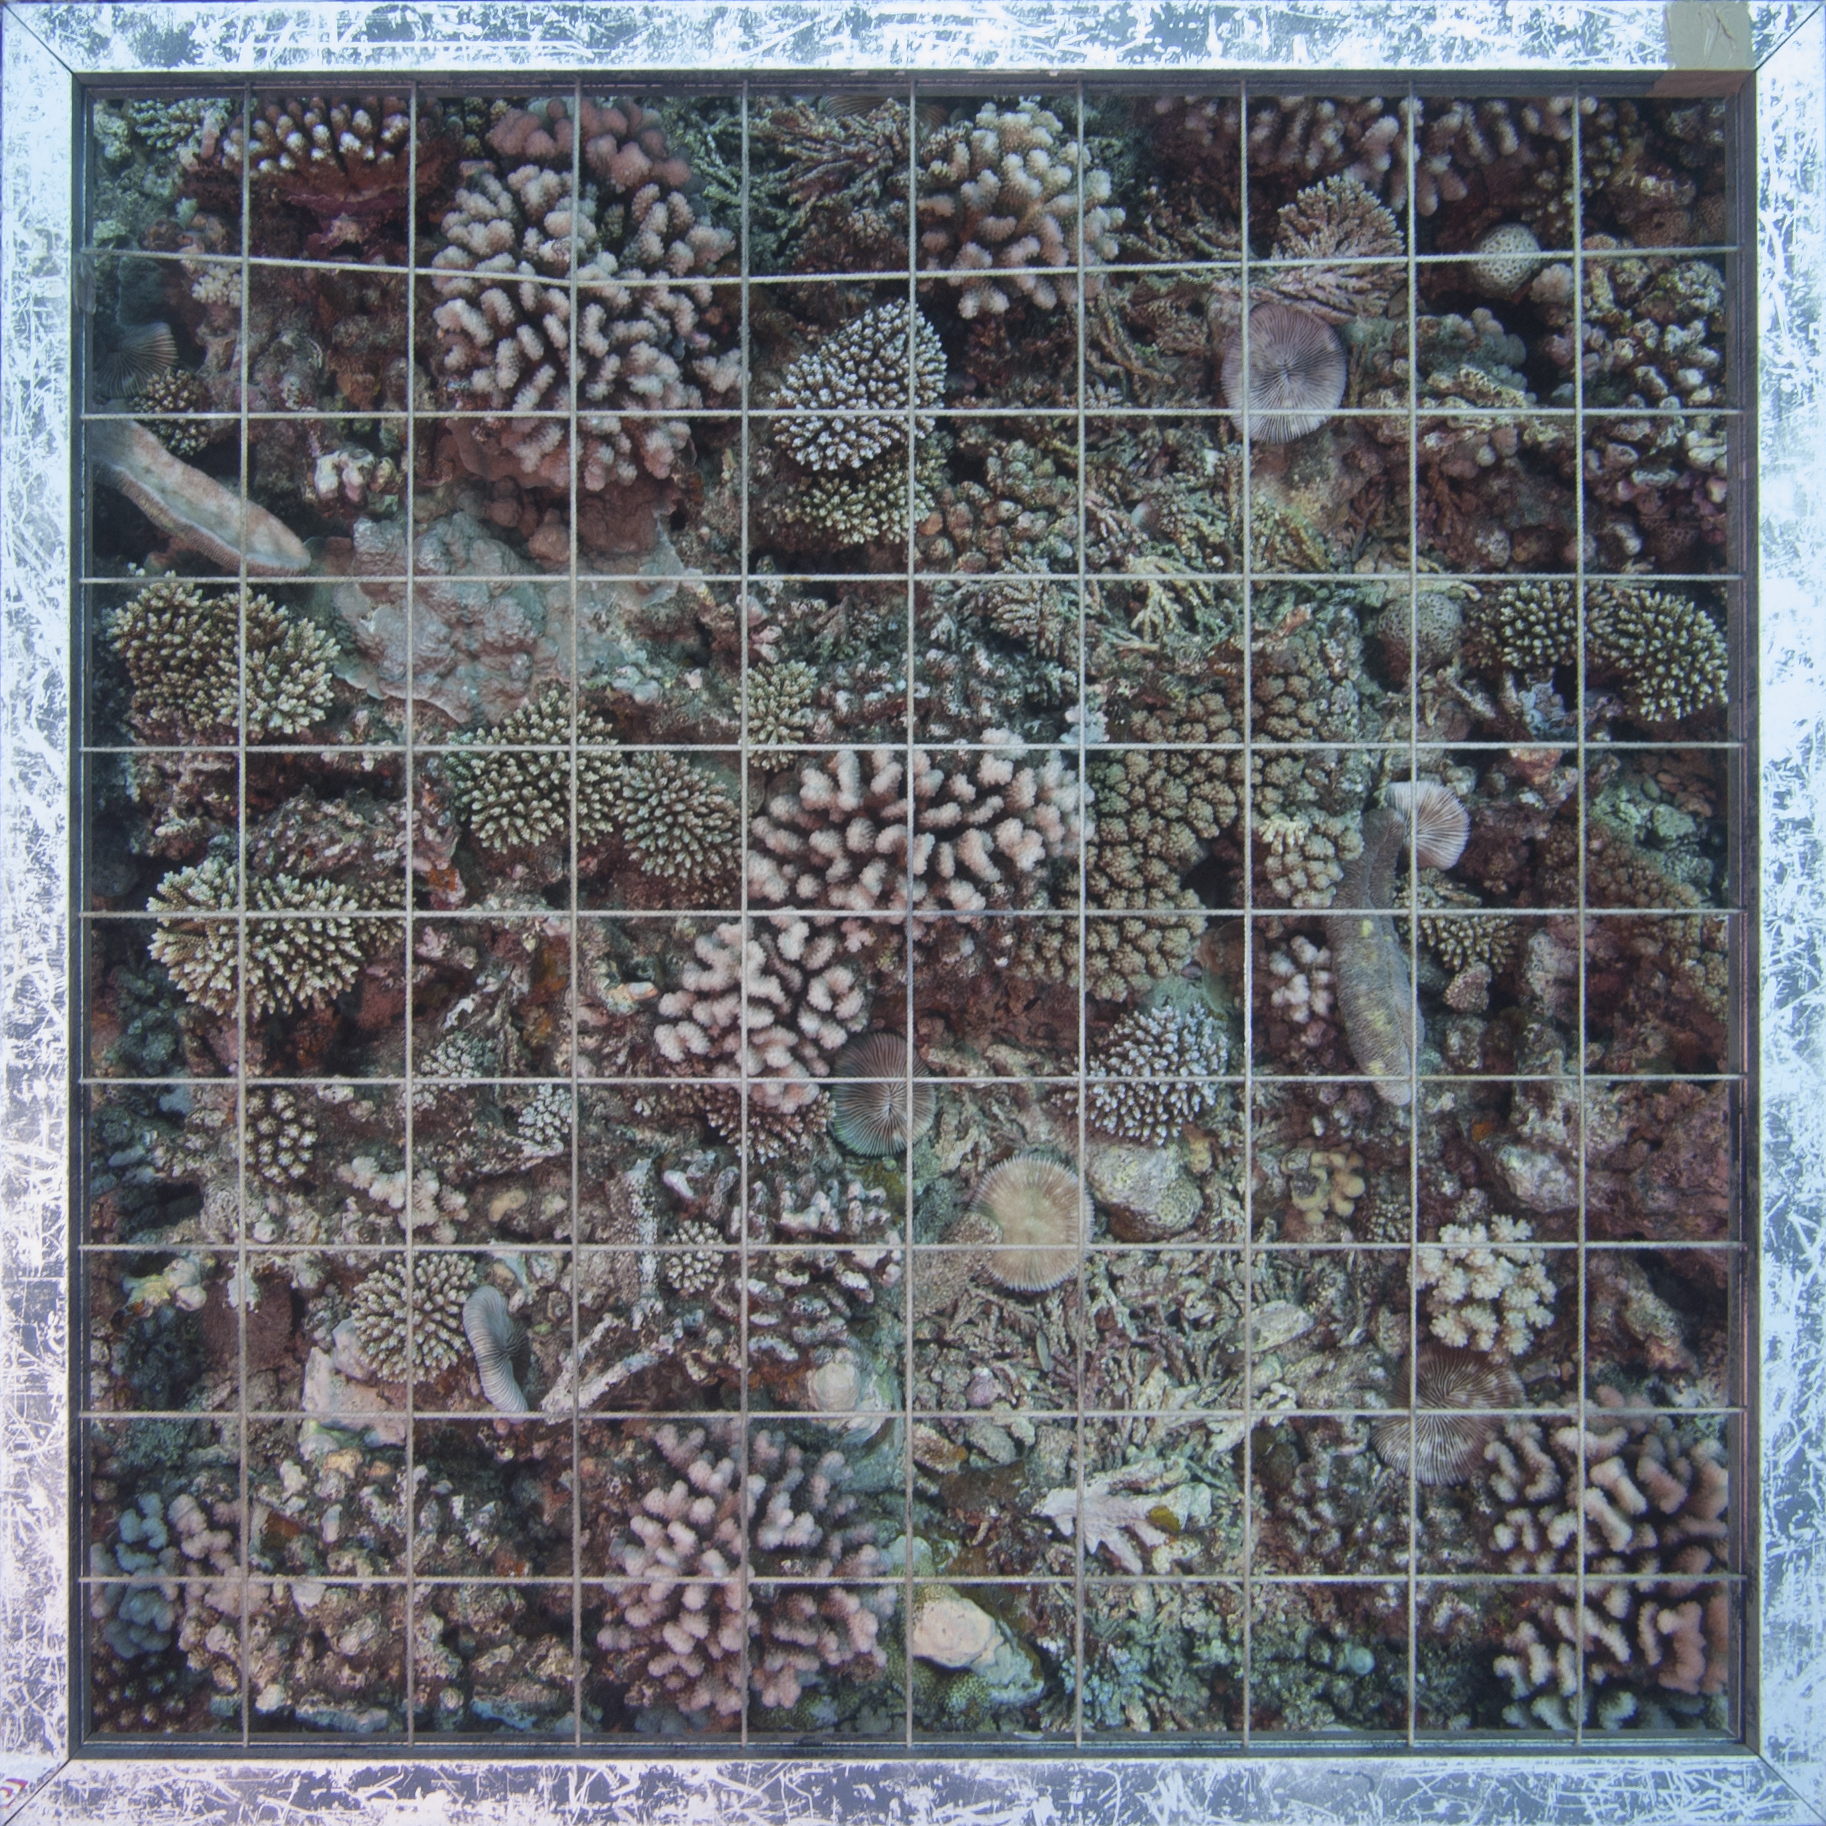alive: (423, 100, 716, 493)
